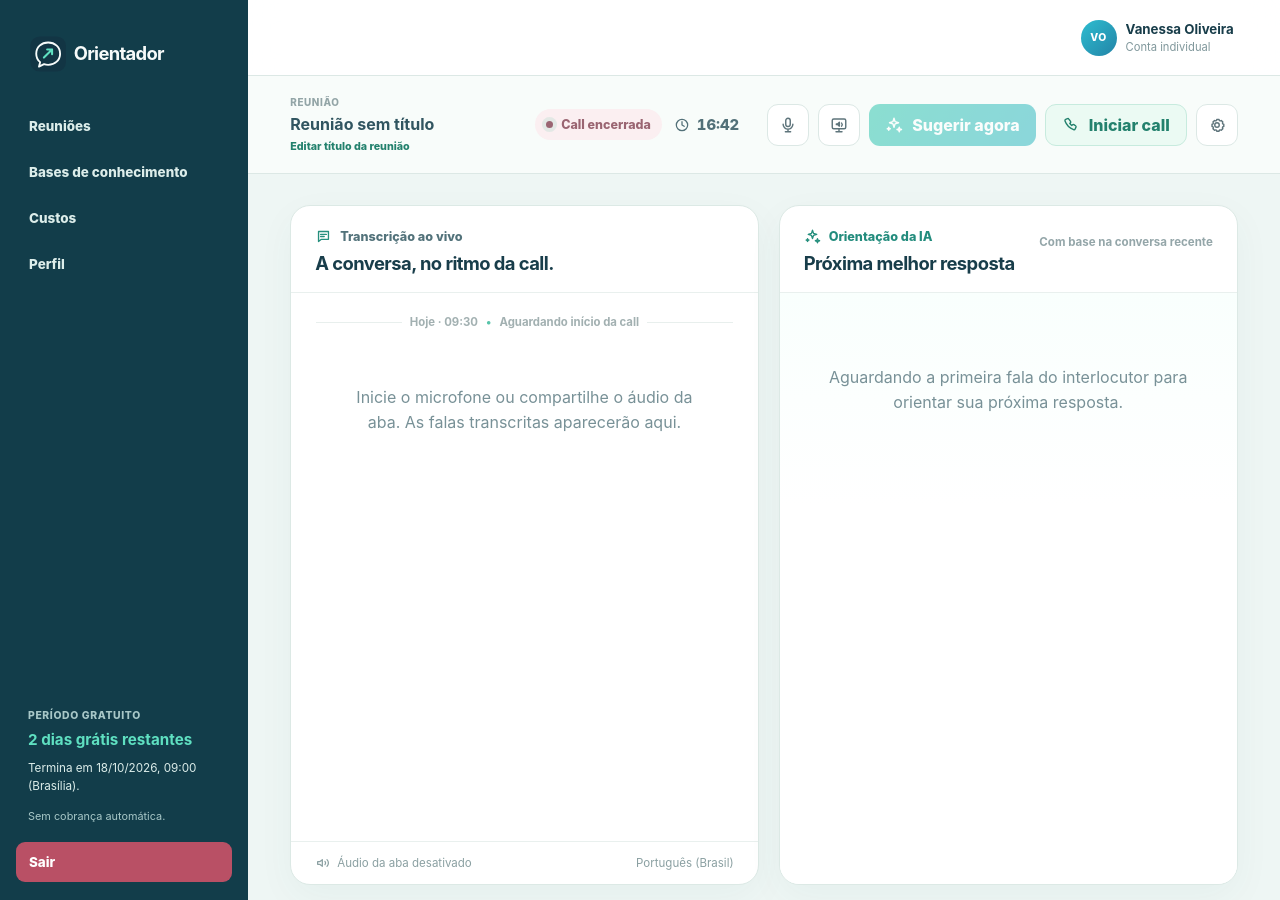
it: tela principal de call › fecha um WebM por intervalo, abre o próximo gravador e envia o último bloco antes de encerrar
Check: the heading "A conversa, no ritmo da call." is shown, box top-left (315, 252), bottom-right (554, 274)
Click the button named "Escutar microfone": (788, 125) top-left (767, 104), bottom-right (809, 146)
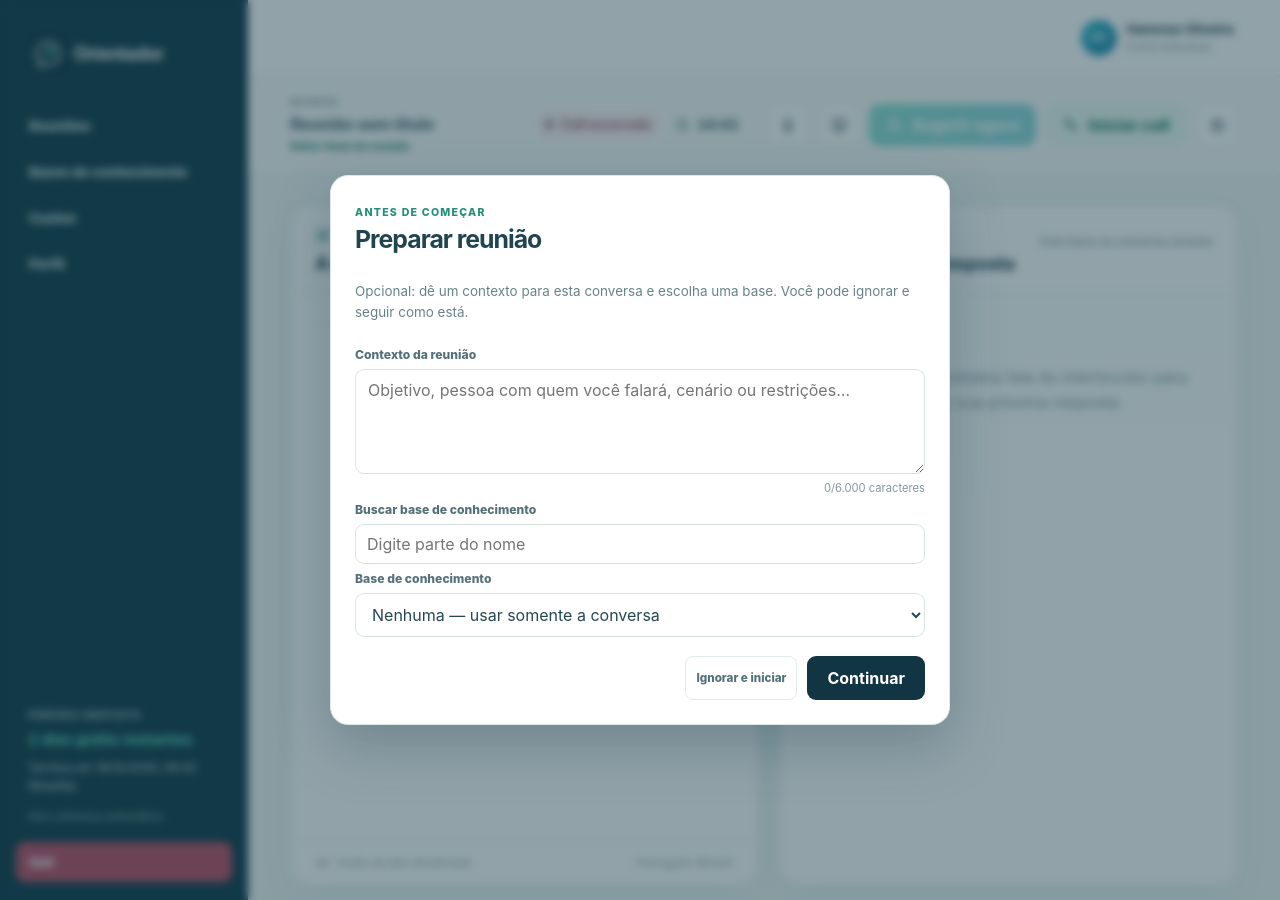
Click the button "Ignorar e iniciar": (741, 678) top-left (685, 656), bottom-right (797, 700)
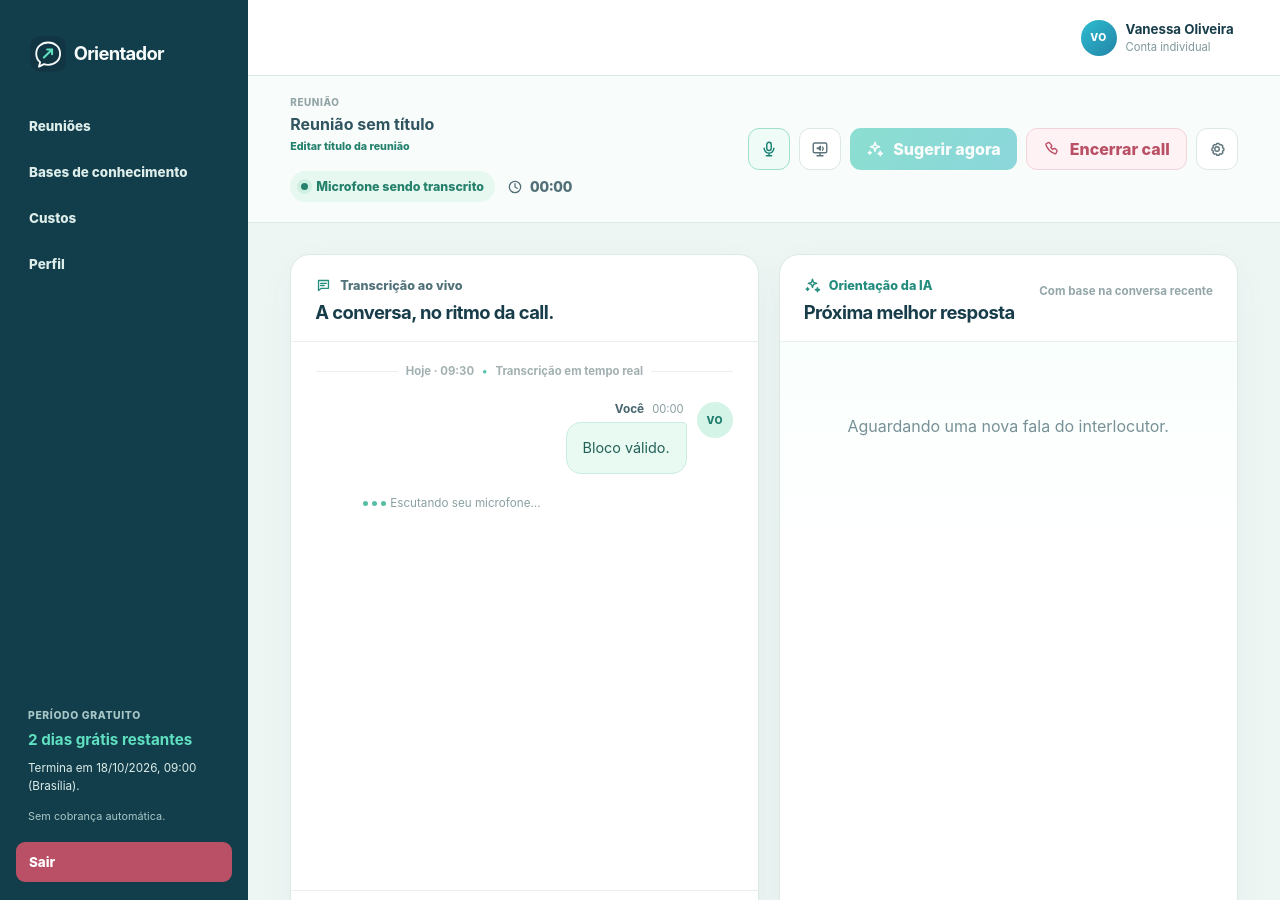
Click the button "Encerrar call": (1106, 149) top-left (1026, 128), bottom-right (1187, 170)
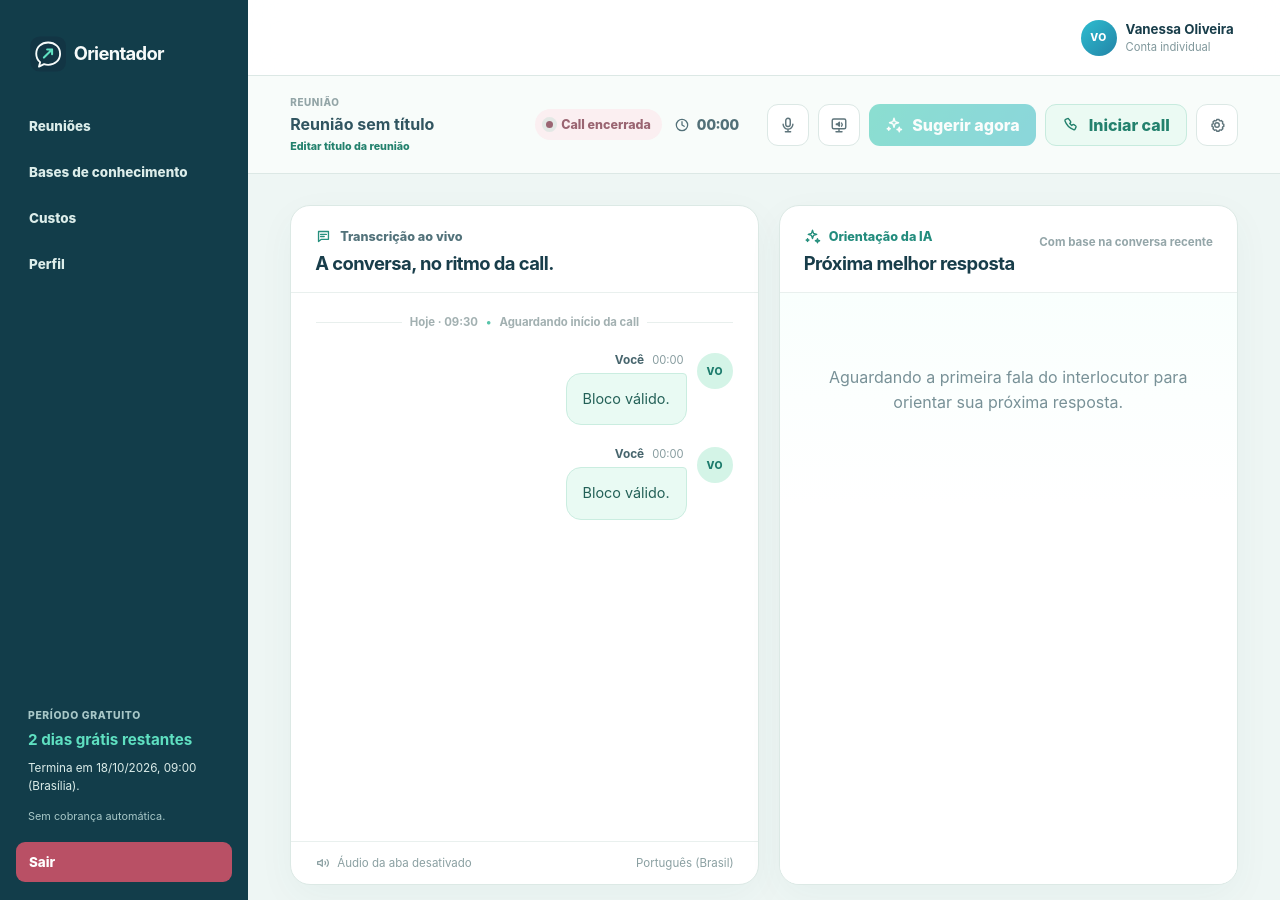
Check: the button "Iniciar call" is shown, box top-left (1045, 104), bottom-right (1187, 146)
